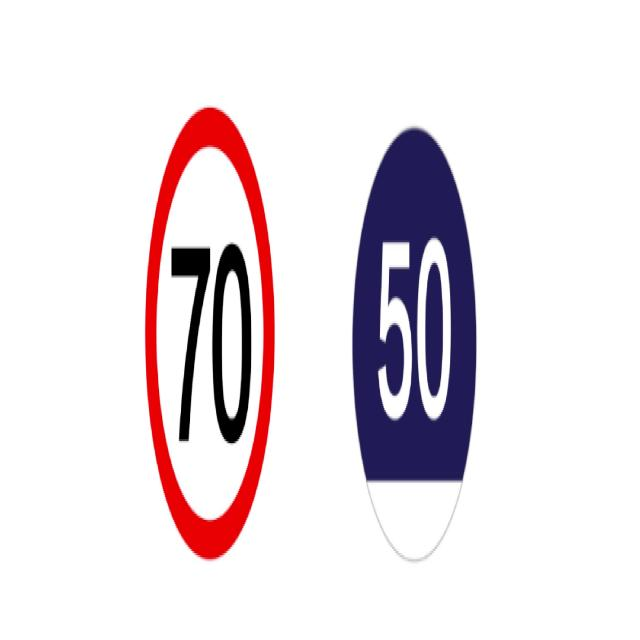speed limit 50: (351, 123, 477, 566)
speed limit 70: (143, 108, 275, 560)
